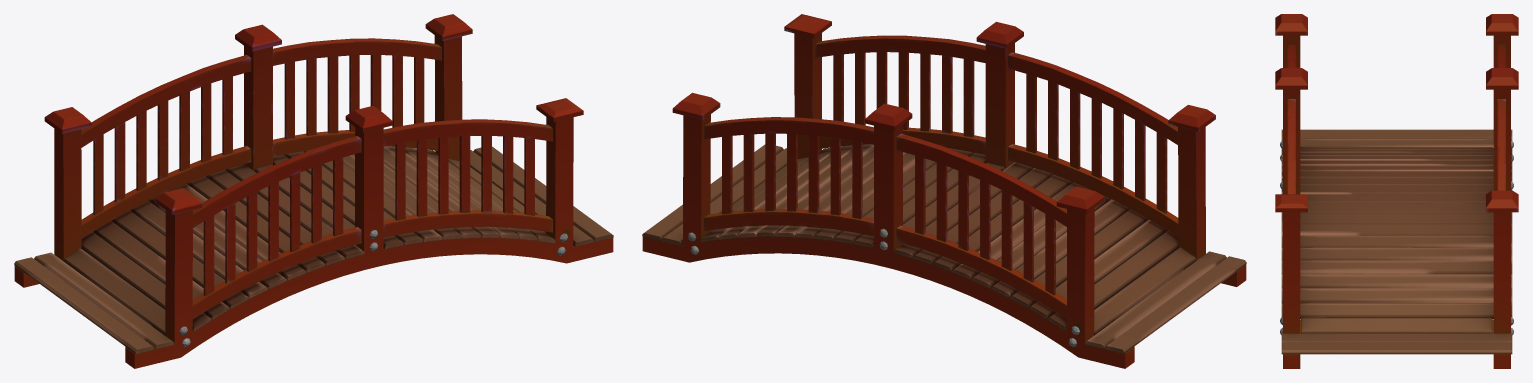
3 views of the same model, side by side, from view 1: azimuth 30°, elevation 25°; view 2: azimuth 150°, elevation 25°; view 3: azimuth 270°, elevation 25° (orthographic). The views are drawn at different scales.
Parts seen in each view (by area): view 1: Bridge; view 2: Bridge; view 3: Bridge.
Boxes of the visible parts, <box> form: Bridge: <box>14,14,613,368</box>; Bridge: <box>642,14,1246,368</box>; Bridge: <box>1275,14,1518,368</box>.
Bounding box in the file's own units: 1200 × 468 × 556.
1 material, 1 textured.
